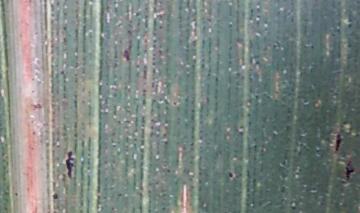tarspot: (62, 147, 78, 182), (343, 156, 359, 189), (331, 131, 344, 156), (119, 45, 134, 66), (225, 168, 237, 183), (49, 190, 60, 203), (13, 191, 20, 198)
